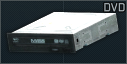DVD drive: (0, 0, 127, 64)
